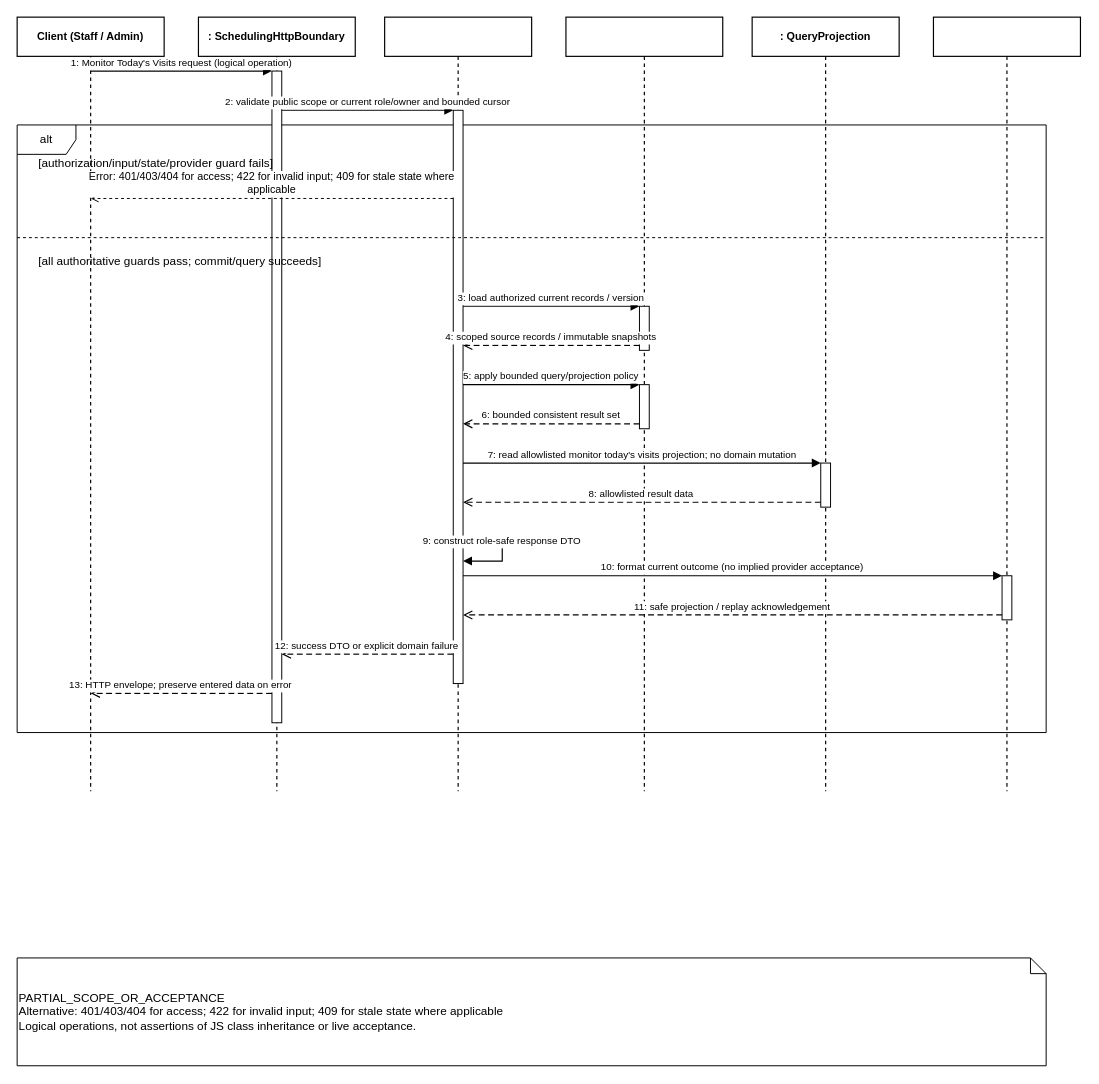
Image size: 1099x1084. Some labels were removed from this diagram. The box of each missing label's shape, as (x1, y1, x2, y2) in pixels:
: ReadRepository: (565, 16, 723, 791)
: ResultProjection: (932, 16, 1081, 791)
: SchedulingService: (384, 16, 532, 791)
